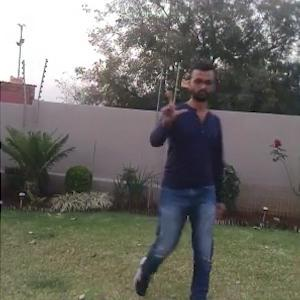land_hand: (159, 85, 189, 120)
